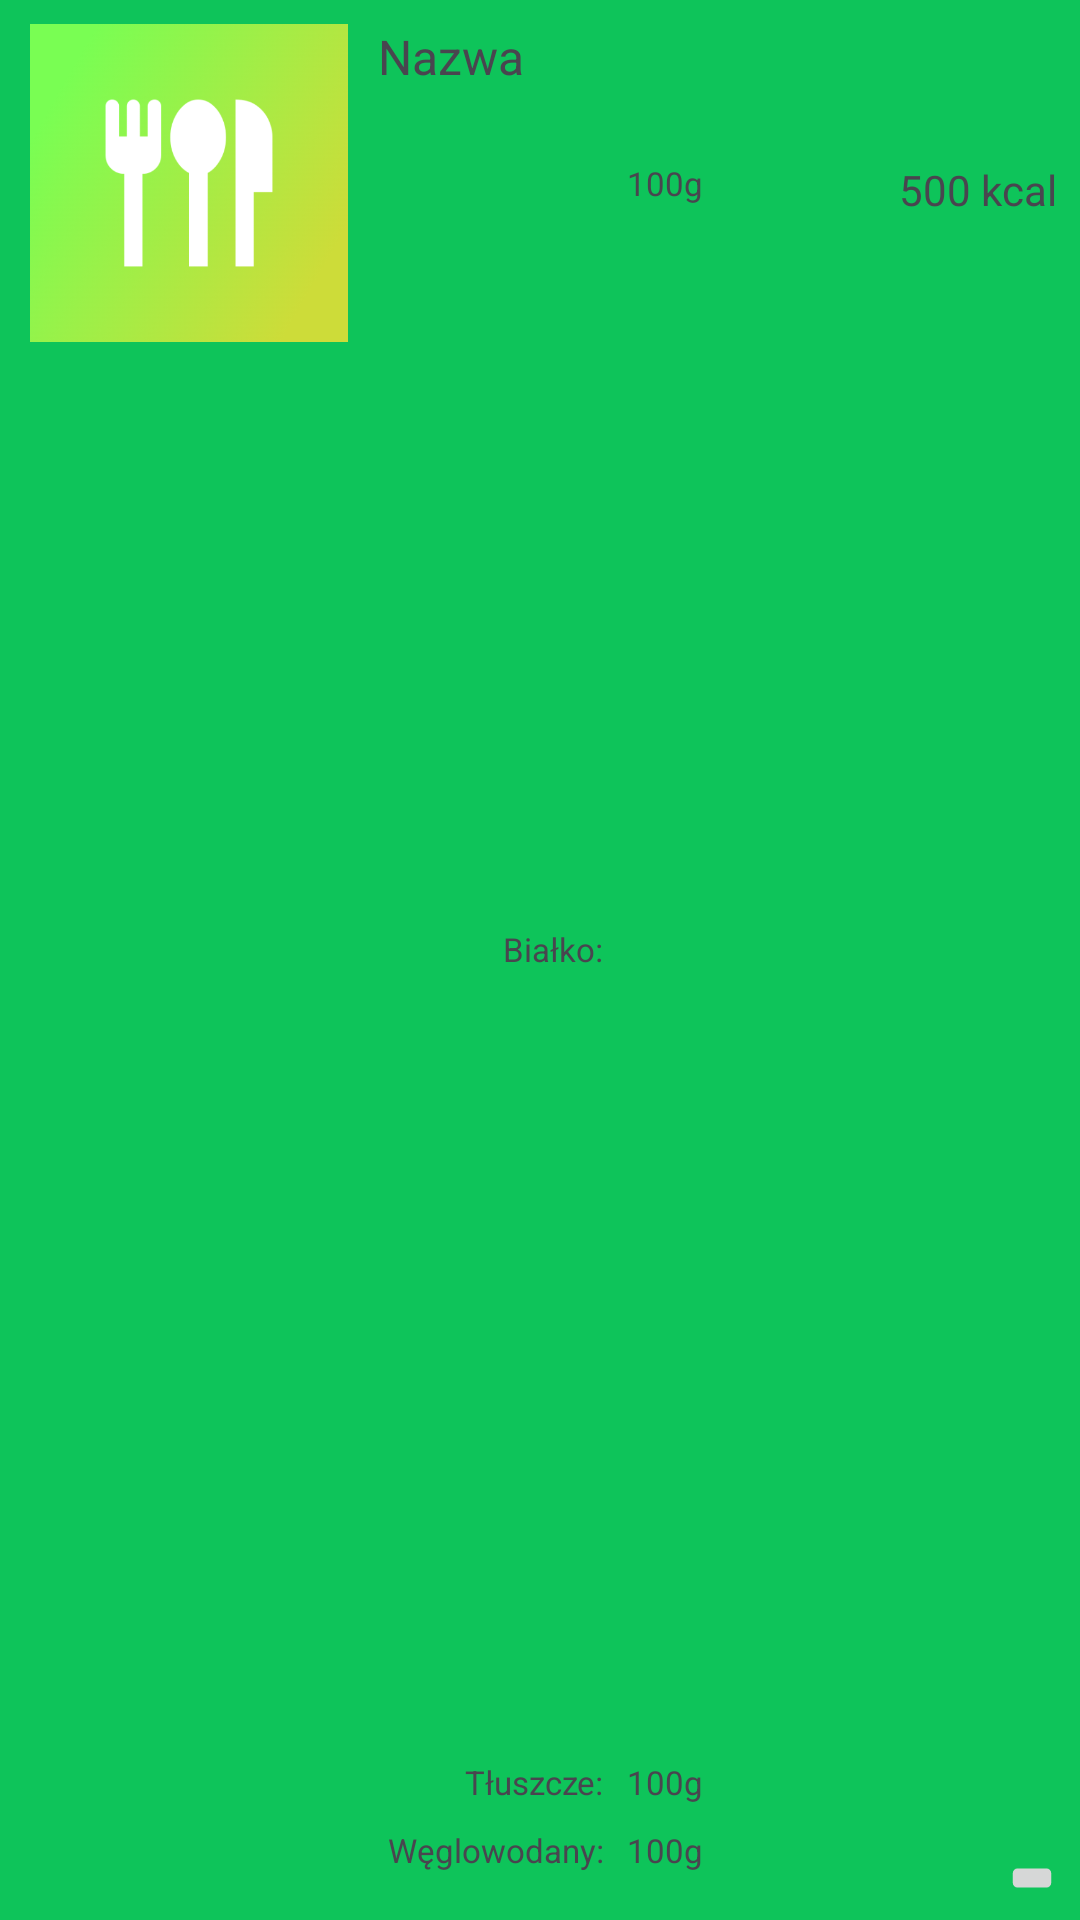

Named icons in this screenshot (1080x1920) and their centers, (x,y):
sztucce: (189,183)
